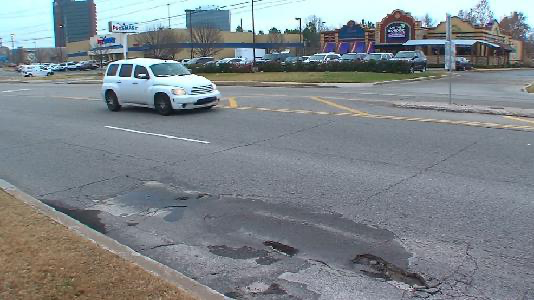pothole: (351, 252, 430, 292), (263, 238, 299, 256), (196, 191, 212, 202), (174, 194, 190, 202)
